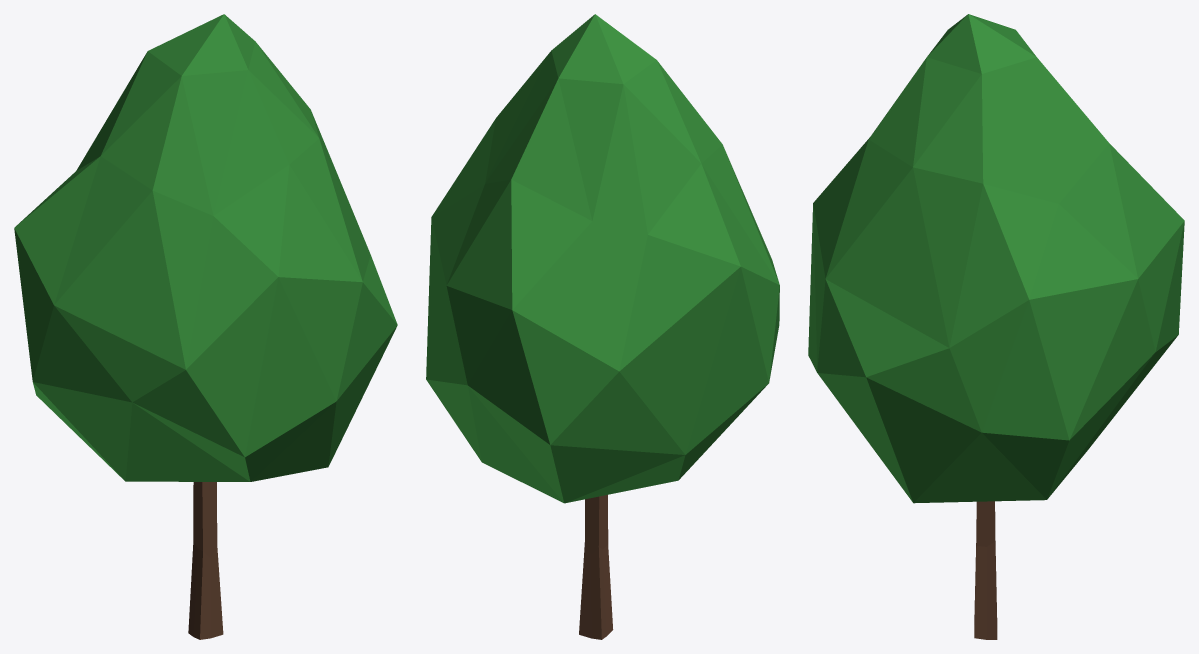
The model's file is Tree_5_Green.fbx.
3 views of the same model, side by side, from view 1: azimuth 30°, elevation 25°; view 2: azimuth 150°, elevation 25°; view 3: azimuth 270°, elevation 25° (orthographic). The views are drawn at different scales.
Visible parts, largest first — view 1: Tree_5_Green_Part_1, Tree_5_Green_Part_2; view 2: Tree_5_Green_Part_1, Tree_5_Green_Part_2; view 3: Tree_5_Green_Part_1, Tree_5_Green_Part_2.
Boxes of the visible parts, x1,y1,x2,y2 form: Tree_5_Green_Part_1: (14, 14, 397, 481); Tree_5_Green_Part_2: (188, 482, 223, 639); Tree_5_Green_Part_1: (426, 14, 779, 503); Tree_5_Green_Part_2: (579, 495, 613, 639); Tree_5_Green_Part_1: (808, 14, 1184, 503); Tree_5_Green_Part_2: (974, 501, 997, 639).
Size of the model in its own units: 437 by 795 by 434.
